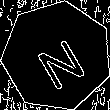N_NW: (27, 24, 87, 88)
